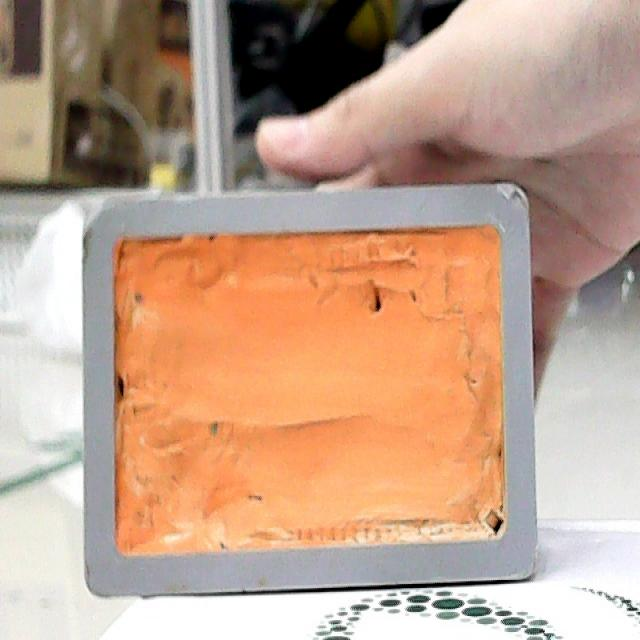block: (68, 182, 544, 590)
